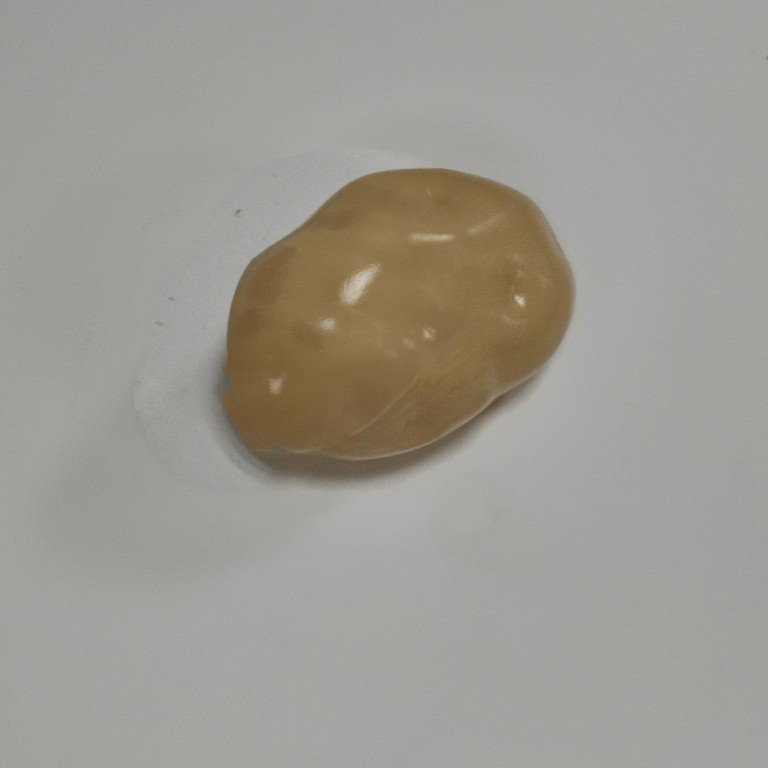fruit_potato: (215, 162, 582, 474)
